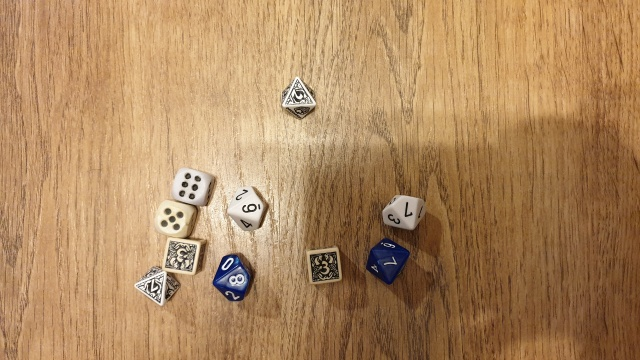d10-6: (223, 179, 274, 239)
d10-7: (360, 233, 417, 290), (379, 191, 432, 233)
d10-8: (209, 250, 261, 309)
d6-5: (152, 197, 196, 241)
d6-6: (167, 162, 219, 207)
d6p-3: (302, 241, 349, 293), (161, 236, 209, 278)
d8p-2: (275, 70, 322, 123)
d8p-7: (132, 260, 186, 308)
